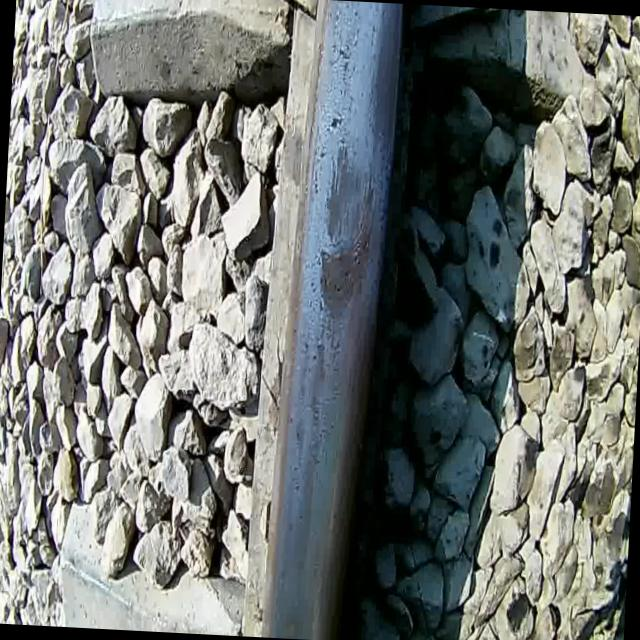Squats: (313, 132, 382, 331)
